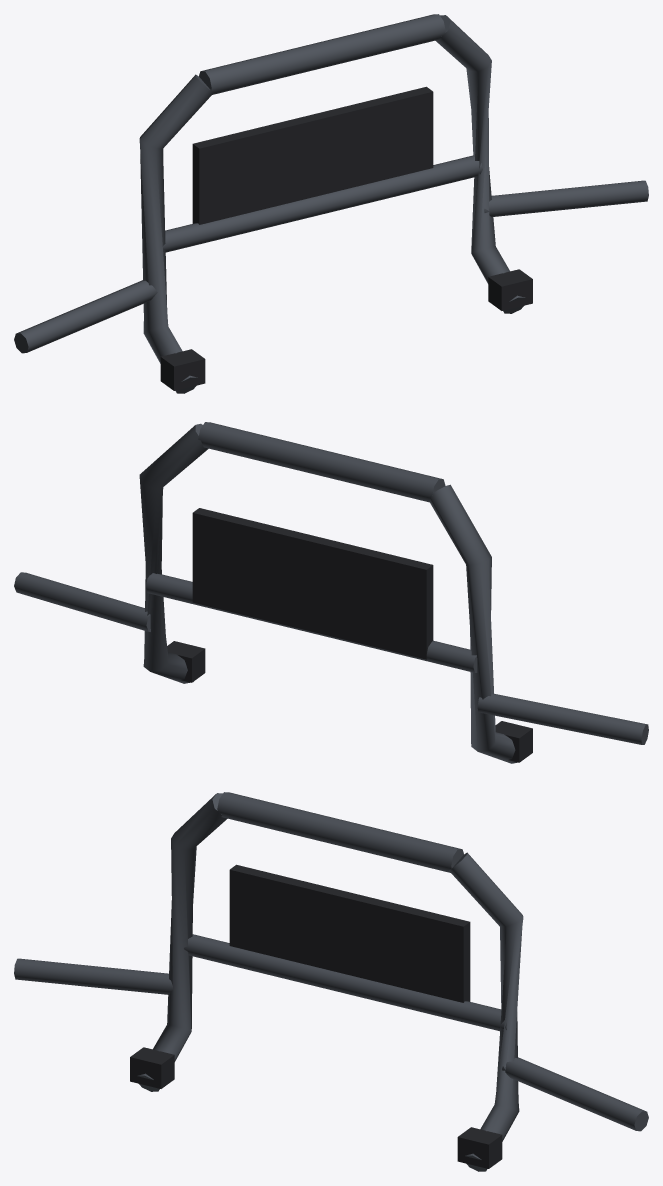
Rendered from bumper_bullbar.glb.
3 views of the same model, one above another, from view 1: azimuth 30°, elevation 25°; view 2: azimuth 150°, elevation 25°; view 3: azimuth 330°, elevation 25° (orthographic).
Visible parts, largest first — view 1: bumper_bullbar__mesh; view 2: bumper_bullbar__mesh; view 3: bumper_bullbar__mesh.
Part boxes in pixels (left/top/right/bottom): bumper_bullbar__mesh: left=14, top=14, right=648, bottom=393; bumper_bullbar__mesh: left=14, top=422, right=648, bottom=763; bumper_bullbar__mesh: left=14, top=792, right=648, bottom=1171.
Bounding box in the file's own units: 1.61 × 0.716 × 0.2044.
1 material, 1 textured.
